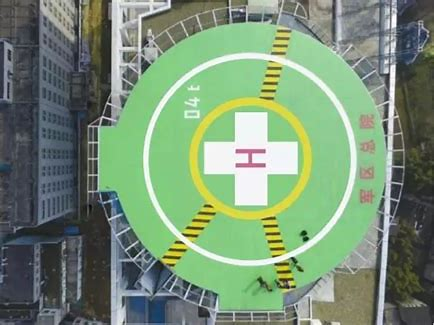H: (235, 149, 267, 168)
